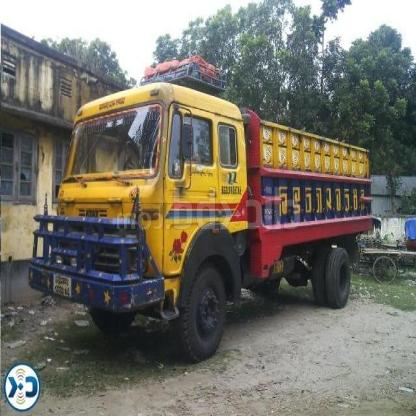truck: (32, 77, 374, 361)
